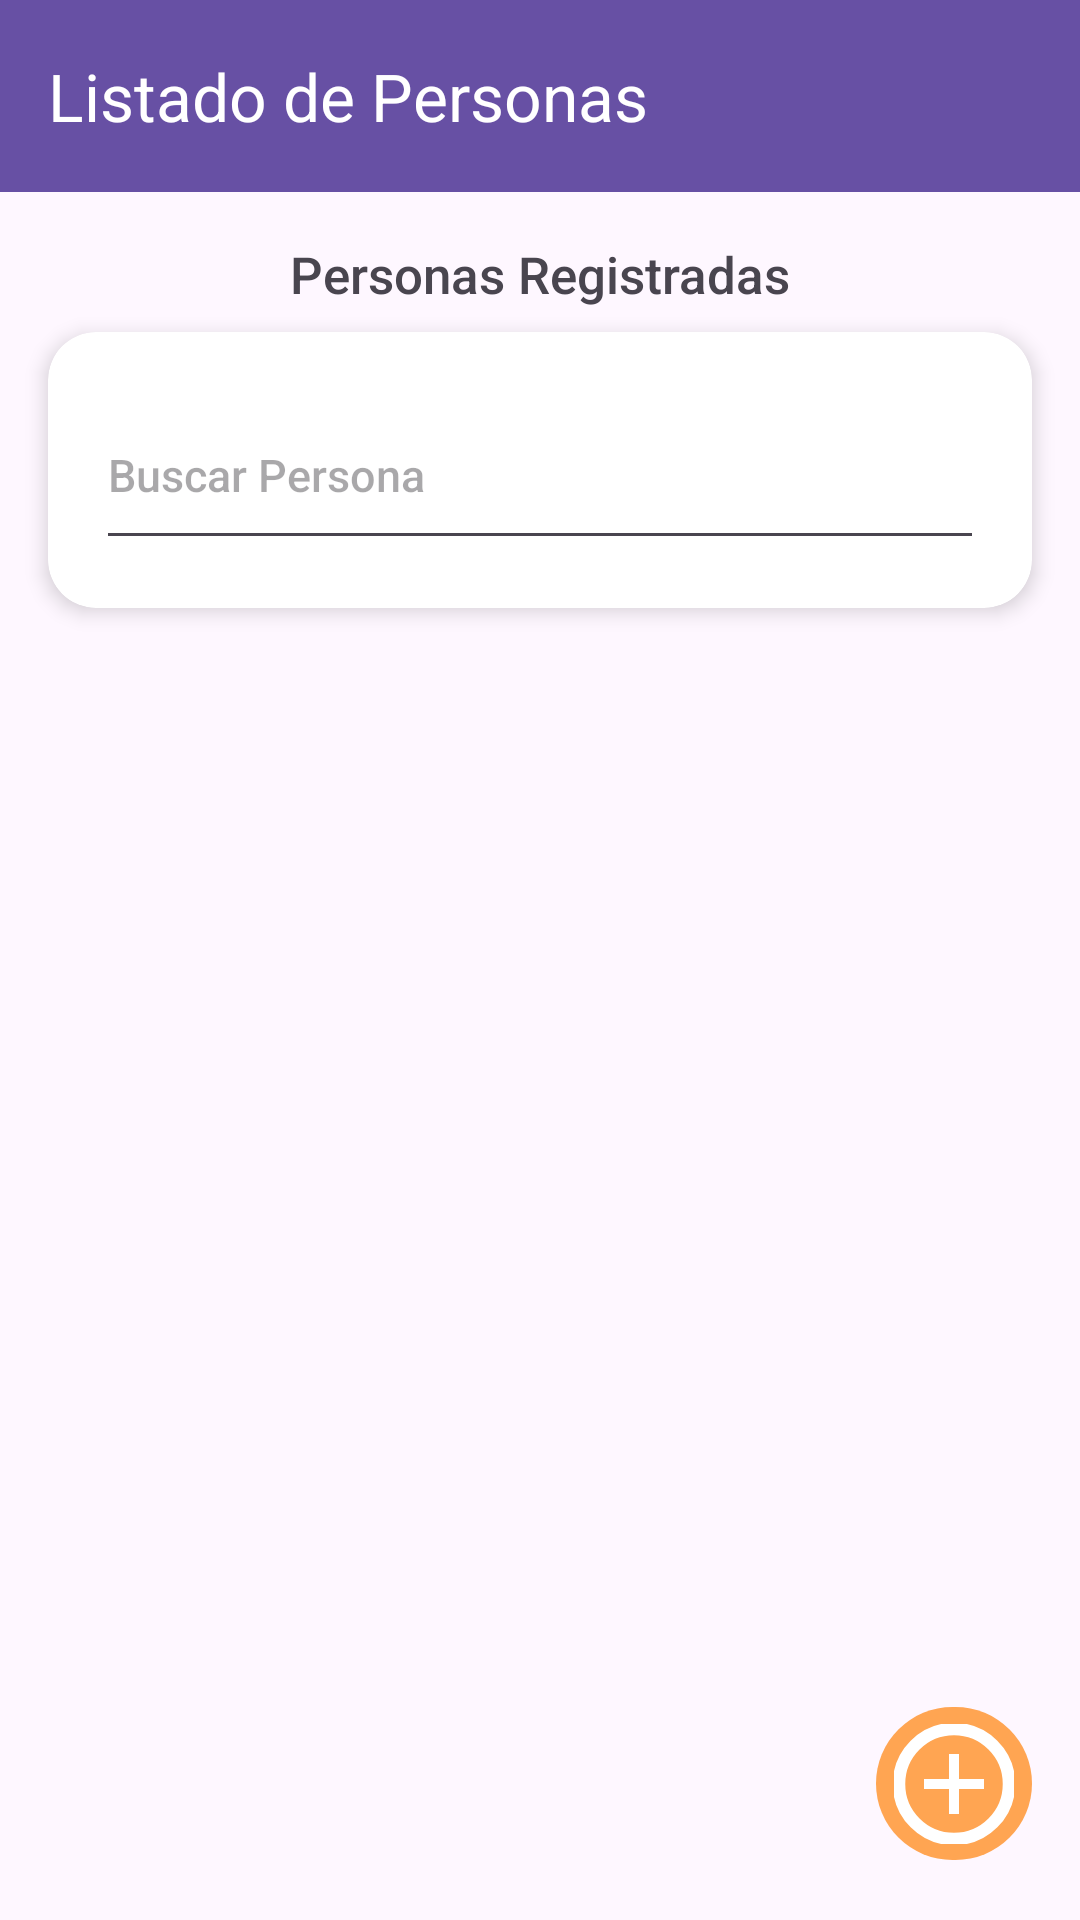

Icon click points for this 1080w x 1920h phone screenshot, format (x=x, y=y):
Agregar: (x=954, y=1783)
